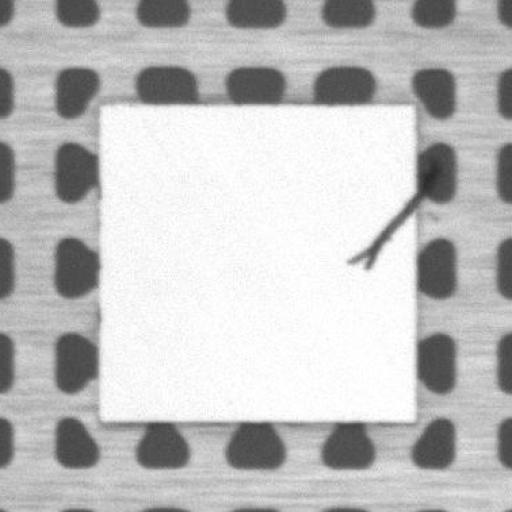DIE_INK: (347, 190, 416, 268)
